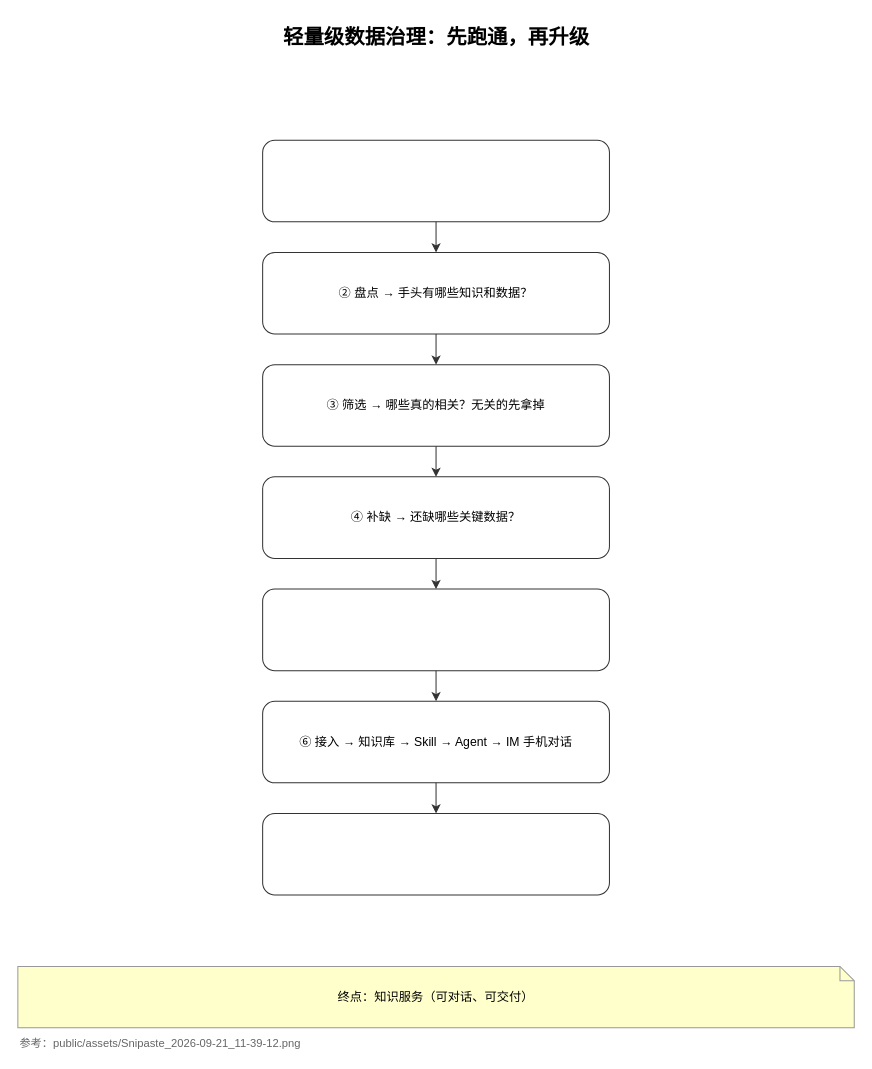
Some shapes in this 872 by 1069 pixel diagram are drawn without their labels. The shapes that lost their labels are listed below. From the top down, each one's centre as x and y in pixels, then its label:
At (435,180): "① 先问 → 到底要解决什么问题？".
At (435,629): "⑤ 治理 → 清洗、结构化、分类、权限分级".
At (435,853): "⑦ 运营 → 定时更新、记录 Log、备份、Git 版本".
